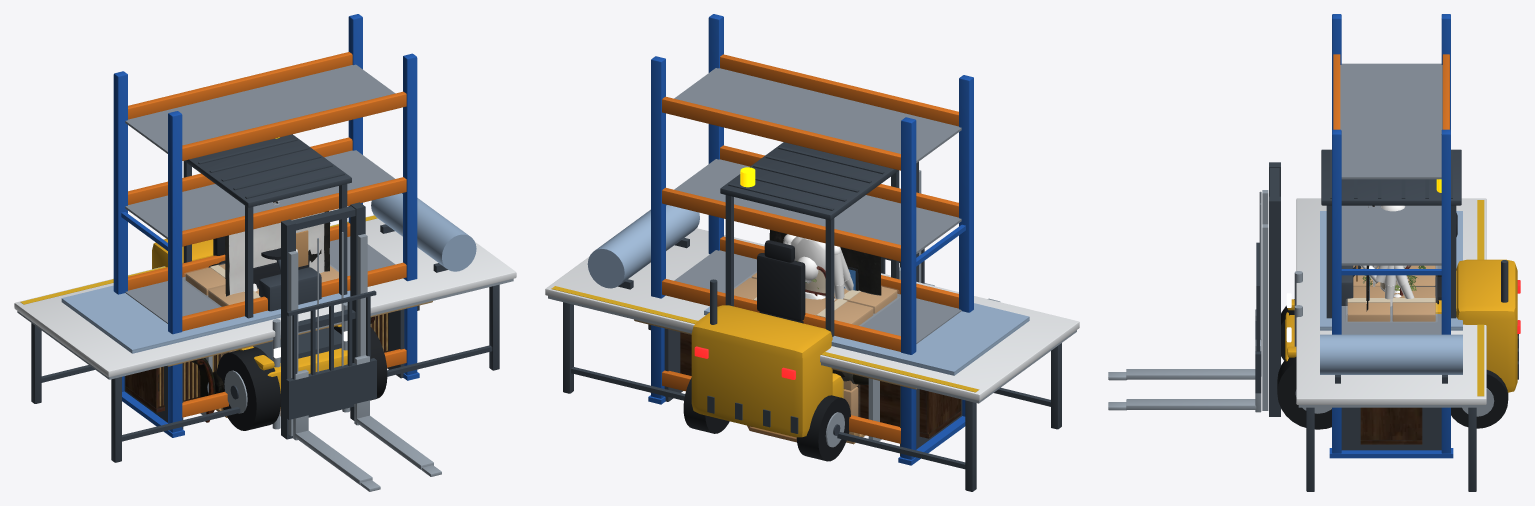
Rendered from props.glb.
3 views of the same model, side by side, from view 1: azimuth 30°, elevation 25°; view 2: azimuth 150°, elevation 25°; view 3: azimuth 270°, elevation 25° (orthographic). The views are drawn at different scales.
Visible parts, largest first — view 1: forklift_p_steel_dark, rack_bay_rack_deck, rack_bay_rack_orange, rack_bay_rack_blue, top, forklift_p_steel, cutting_table_p_steel_dark, layer_2, forklift_rubber, spread_roll, screen_projector_screen_frame, modern_wooden_cabinet_body (+7 smaller); view 2: rack_bay_rack_deck, rack_bay_rack_orange, rack_bay_rack_blue, forklift_forklift_yellow, top, forklift_p_steel_dark, cutting_table_p_steel_dark, layer_2, spread_roll, forklift_seat, modern_wooden_cabinet_body, forklift_rubber (+8 smaller); view 3: rack_bay_rack_deck, top, forklift_p_steel_dark, rack_bay_rack_blue, forklift_p_steel, forklift_forklift_yellow, spread_roll, film, forklift_rubber, pallet_load_cardboard, modern_wooden_cabinet_body, meeting_table_p_steel_dark (+5 smaller).
Boxes of the visible parts, <box> form: forklift_p_steel_dark: <box>183,134,376,439</box>; rack_bay_rack_deck: <box>125,64,395,323</box>; rack_bay_rack_orange: <box>128,52,406,417</box>; rack_bay_rack_blue: <box>113,14,419,437</box>; top: <box>14,215,516,377</box>; forklift_p_steel: <box>224,232,441,491</box>; cutting_table_p_steel_dark: <box>31,224,499,462</box>; layer_2: <box>61,285,350,350</box>; forklift_rubber: <box>217,326,387,430</box>; spread_roll: <box>371,193,476,271</box>; screen_projector_screen_frame: <box>225,201,330,296</box>; modern_wooden_cabinet_body: <box>125,313,389,412</box>; rack_bay_rack_deck: <box>674,68,961,343</box>; rack_bay_rack_orange: <box>662,54,958,443</box>; rack_bay_rack_blue: <box>648,14,973,465</box>; forklift_forklift_yellow: <box>691,305,844,437</box>; top: <box>545,228,1079,400</box>; forklift_p_steel_dark: <box>707,142,924,435</box>; cutting_table_p_steel_dark: <box>563,238,1061,491</box>; layer_2: <box>704,303,1029,372</box>; spread_roll: <box>587,205,699,288</box>; forklift_seat: <box>757,240,805,323</box>; modern_wooden_cabinet_body: <box>680,332,961,438</box>; forklift_rubber: <box>683,378,850,461</box>; rack_bay_rack_deck: <box>1340,63,1442,334</box>; top: <box>1296,198,1486,404</box>; forklift_p_steel_dark: <box>1255,149,1518,416</box>; rack_bay_rack_blue: <box>1329,14,1453,458</box>; forklift_p_steel: <box>1108,190,1494,416</box>; forklift_forklift_yellow: <box>1285,259,1517,392</box>; spread_roll: <box>1320,334,1462,374</box>; film: <box>1345,266,1437,321</box>; forklift_rubber: <box>1277,299,1508,429</box>; pallet_load_cardboard: <box>1347,265,1435,321</box>; modern_wooden_cabinet_body: <box>1360,407,1422,444</box>; meeting_table_p_steel_dark: <box>1341,407,1441,450</box>.
Size of the model in its own units: 4 by 3 by 3.46.
Materials: 48 (19 with a texture image).
